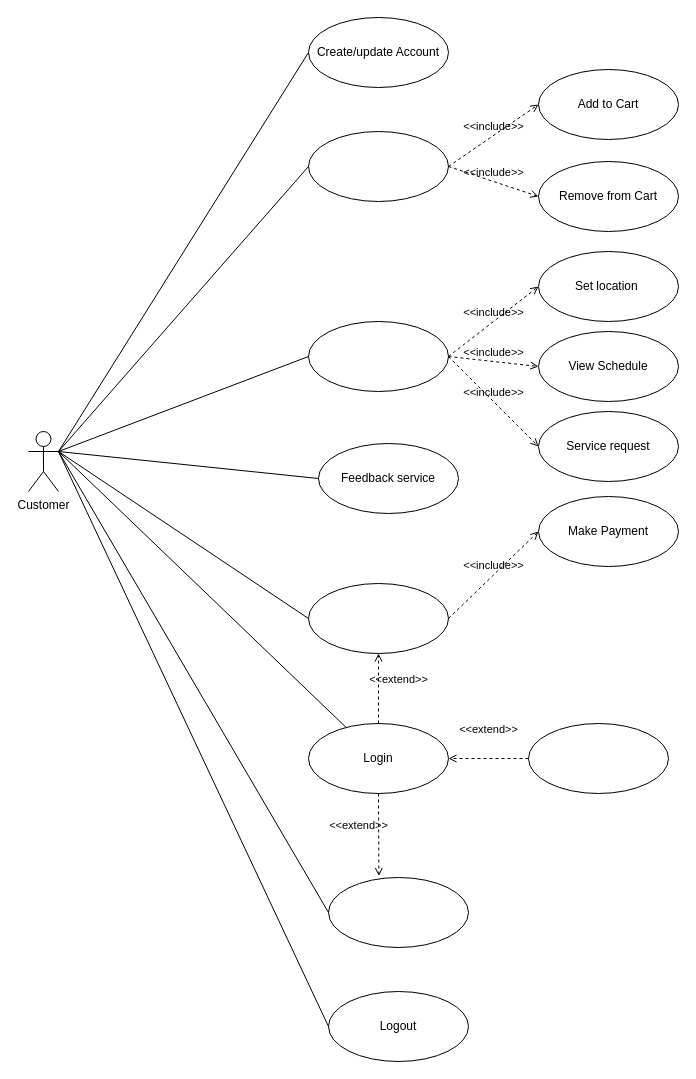
The diagram is 696 pixels wide and 1079 high, and some of its shapes have lost their labels. The shapes that lost their labels are listed below. From the top down, each one's box as (x1, y1, x2, y2) in pixels, then its label:
(308, 130, 448, 202): Browse Services
(308, 320, 448, 392): Book appointment
(308, 582, 448, 654): Checkout
(528, 722, 668, 794): Change password
(328, 876, 468, 948): View Order Status
